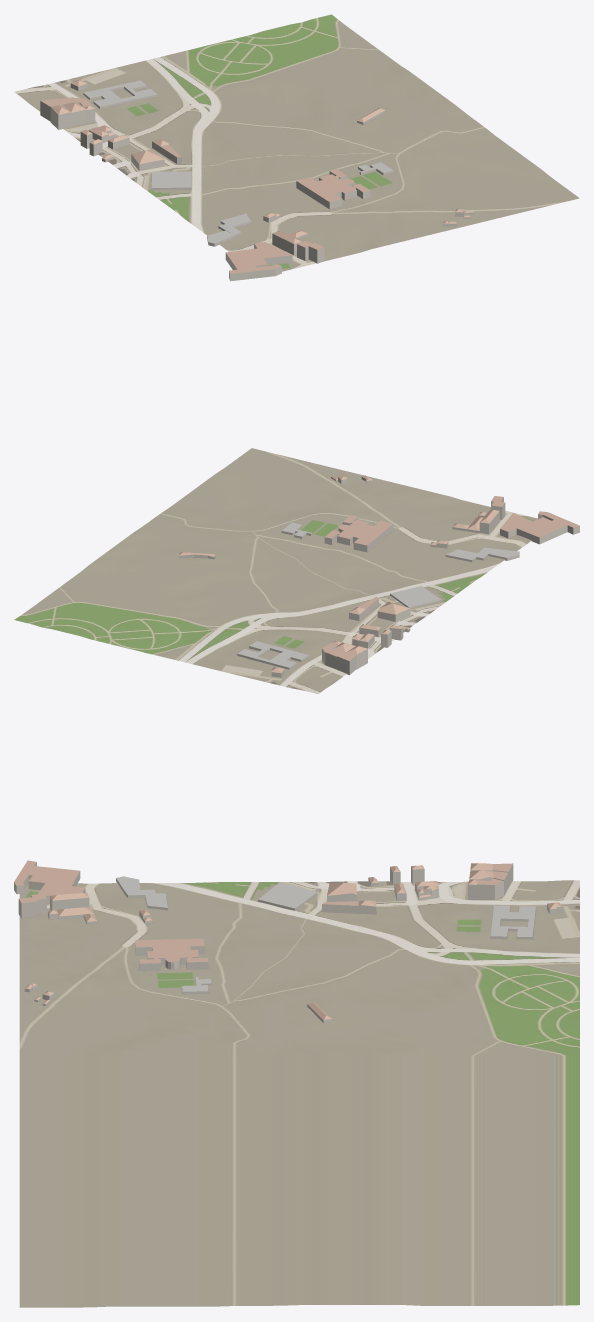
3 renders of one model, top to bottom at view 1: azimuth 30°, elevation 25°; view 2: azimuth 150°, elevation 25°; view 3: azimuth 270°, elevation 25°, orthographic. The views are drawn at different scales.
Size of the model in its own units: 491 by 326 by 616.
Materials: 2 (1 with a texture image).
